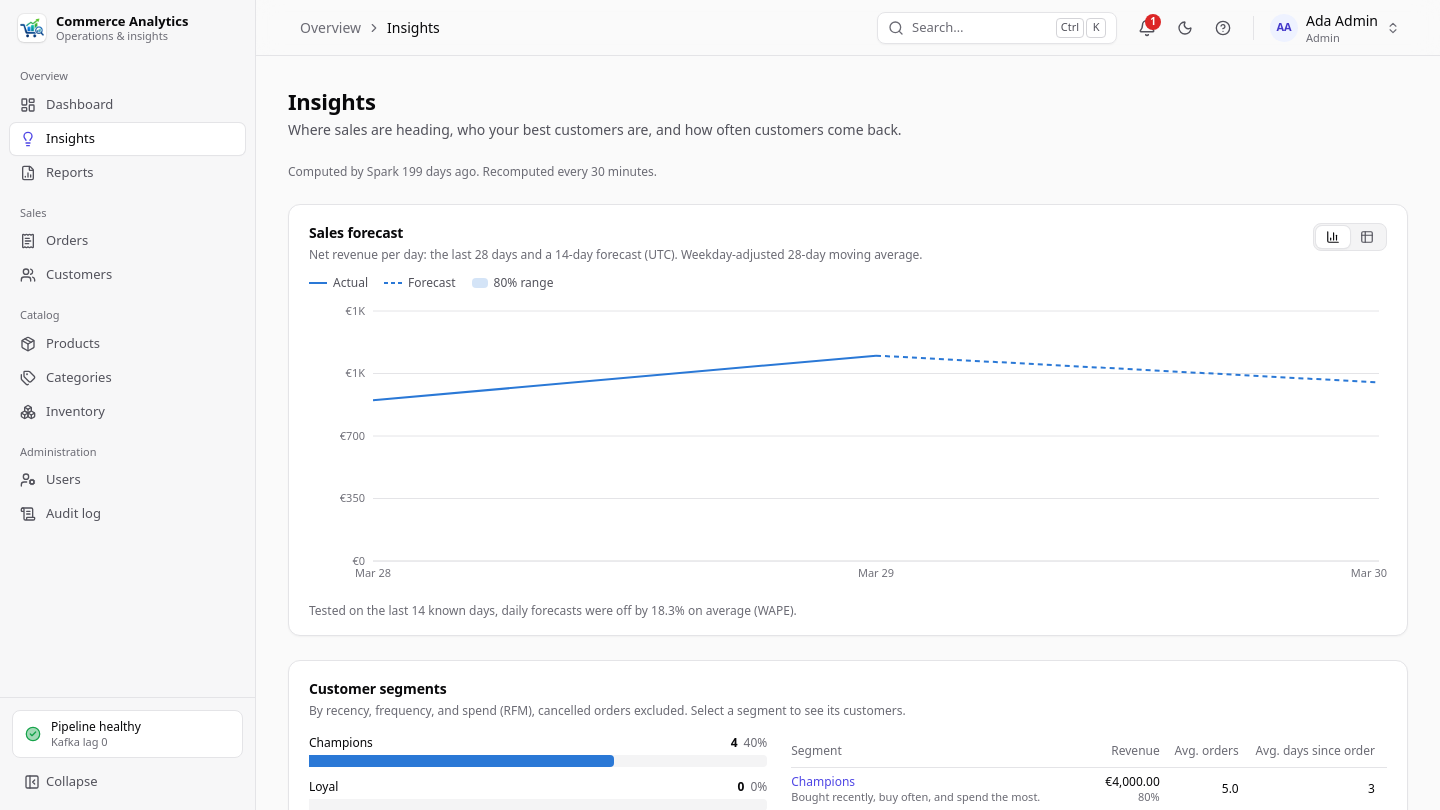
Test case: insights page › lists the customers of a segment with links to their pages
This screenshot has width=1440, height=810.
Click the button "Champions Bought recently, buy often, and spend the most.".
click(916, 789)  # box top-left (791, 774), bottom-right (1040, 804)
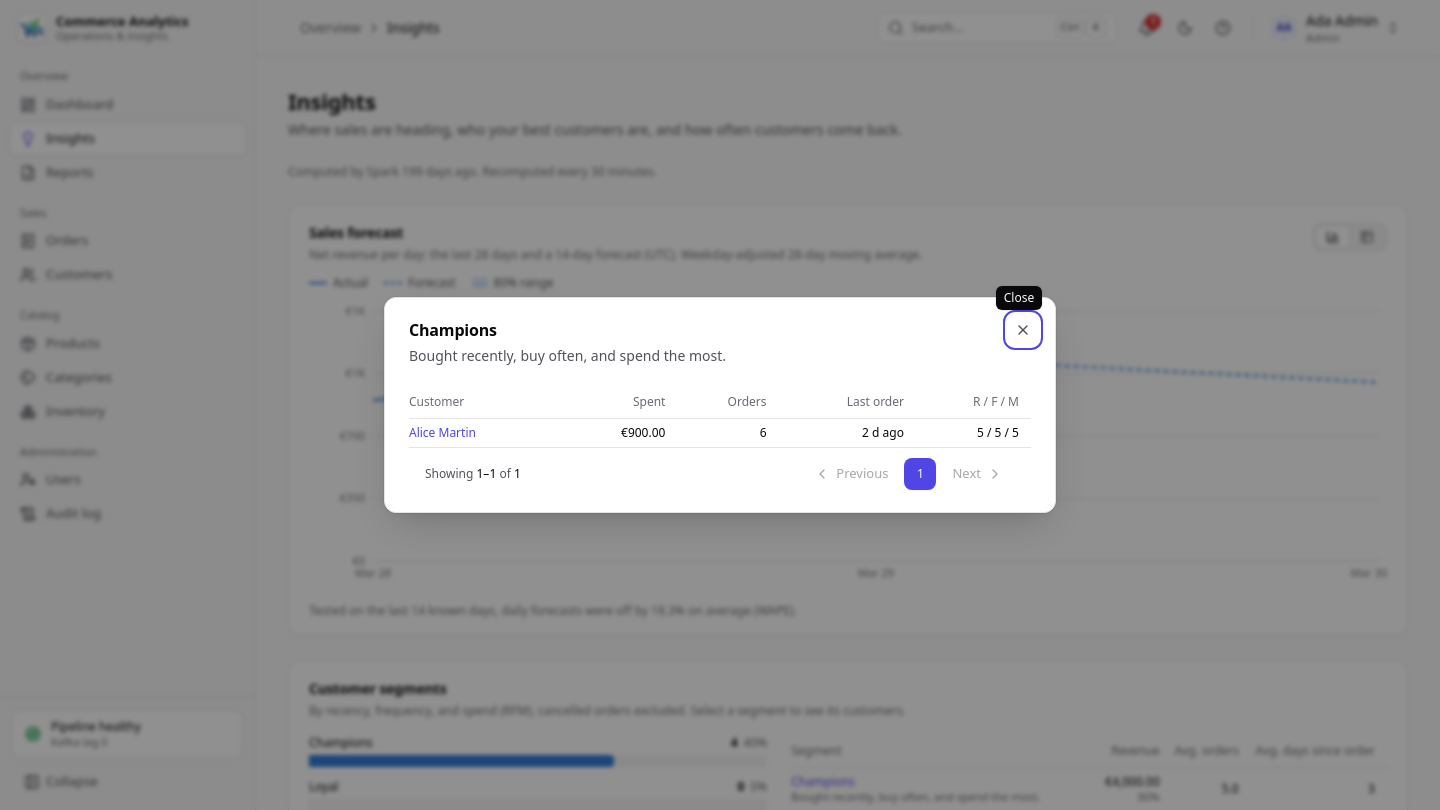
expect the text "5 / 5 / 5" is shown: met, box top-left (916, 419), bottom-right (1031, 447)
